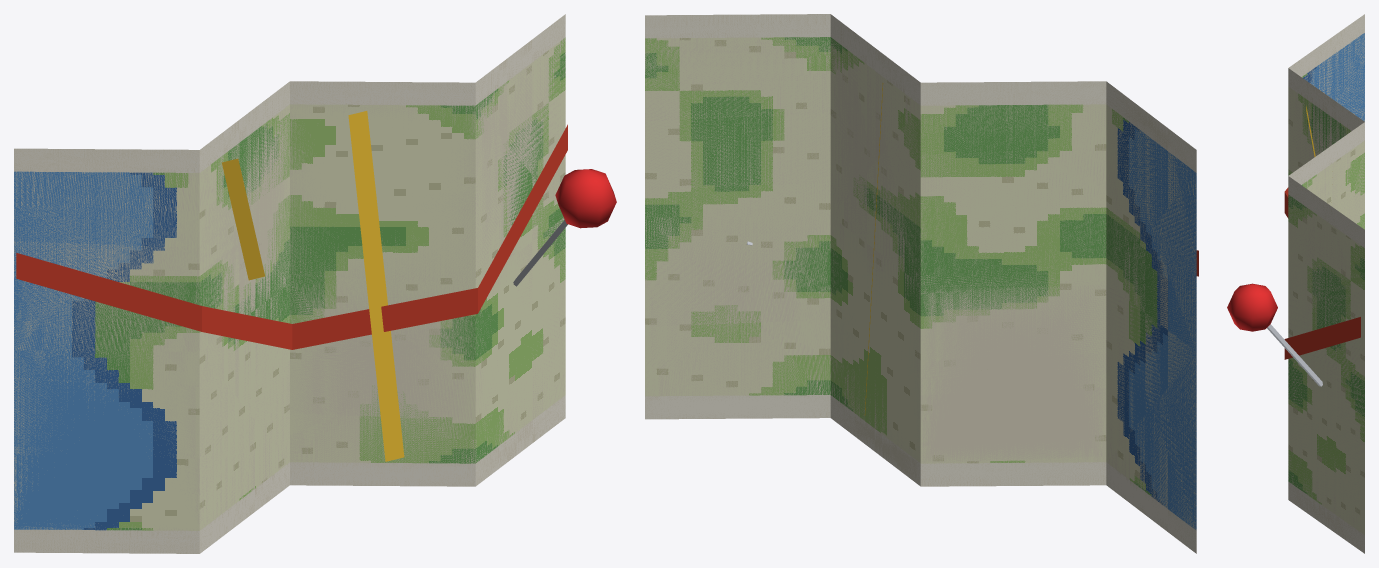
File: outdoors-foldedMap.glb
3 renders of one model, left to right at view 1: azimuth 30°, elevation 25°; view 2: azimuth 150°, elevation 25°; view 3: azimuth 270°, elevation 25°, orthographic. The views are drawn at different scales.
Visible parts, largest first — view 1: outdoors.foldedMap; view 2: outdoors.foldedMap; view 3: outdoors.foldedMap.
Part boxes in pixels (x1=…): outdoors.foldedMap: x1=14, y1=14, x2=616, y2=553; outdoors.foldedMap: x1=645, y1=14, x2=1198, y2=553; outdoors.foldedMap: x1=1227, y1=14, x2=1364, y2=553.
Size of the model in its own units: 1.6 by 1.12 by 0.4319.
Materials: 7 (2 with a texture image).
